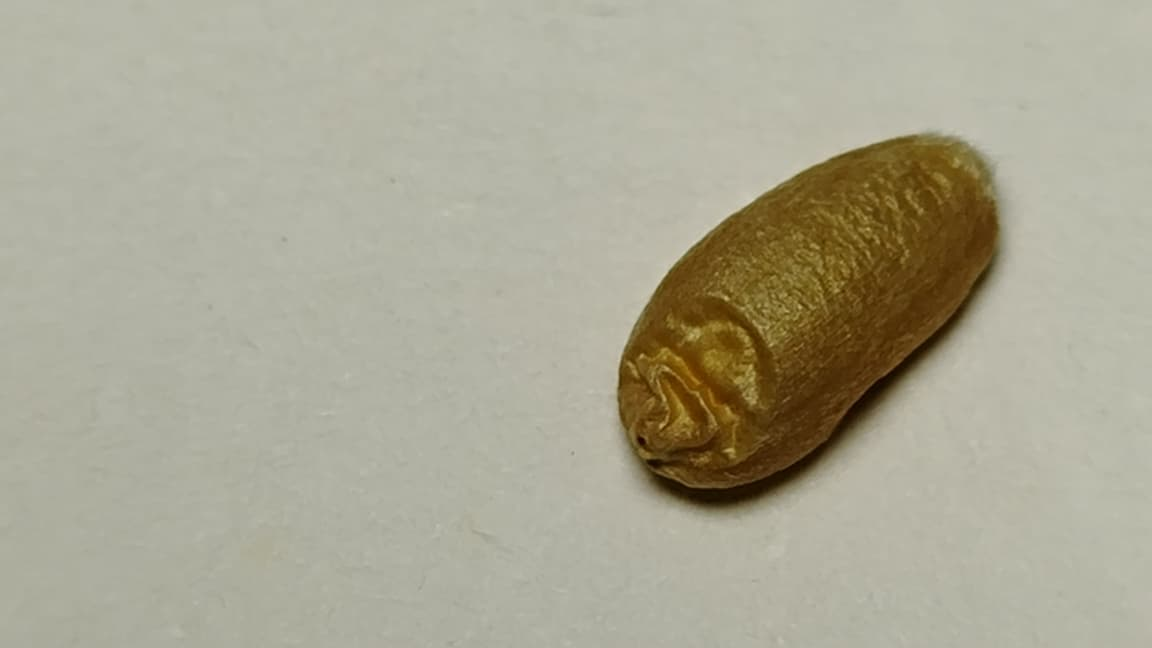healthy: (619, 132, 999, 489)
